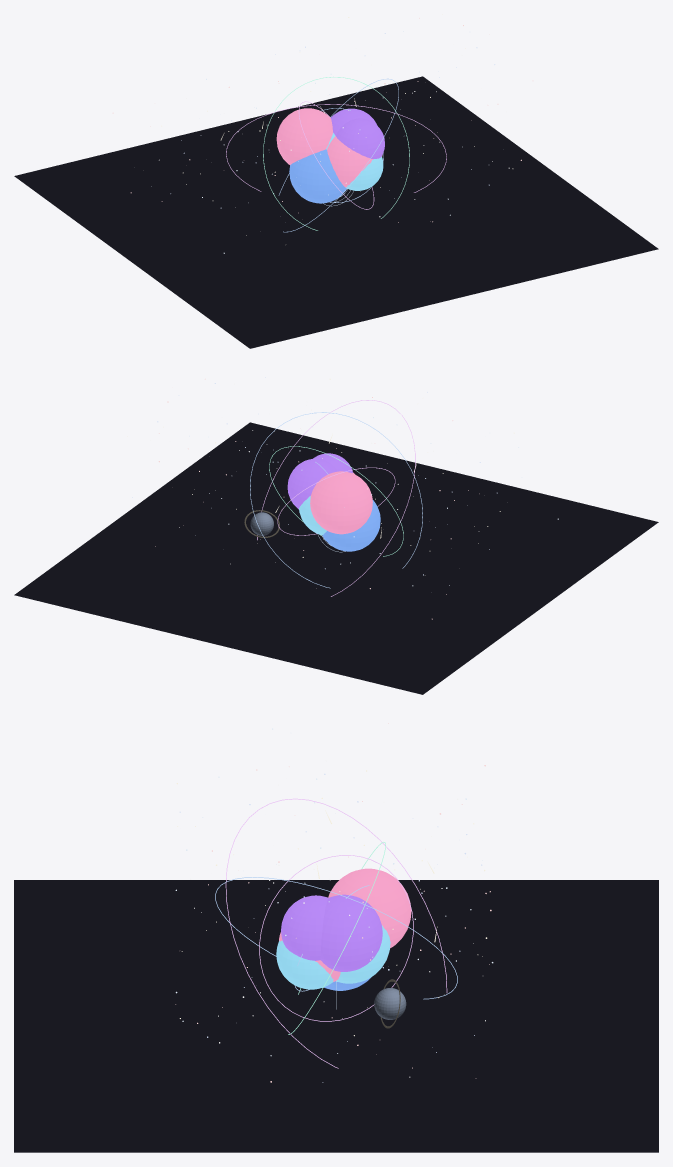
Rendered from ContactSpaceCosmic.glb.
The picture shows the model from 3 angles, top to bottom: view 1: azimuth 30°, elevation 25°; view 2: azimuth 150°, elevation 25°; view 3: azimuth 270°, elevation 25°; orthographic projection. The views are drawn at different scales.
Parts seen in each view (by area): view 1: Cosmic_Floor, Nebula_6, Nebula_1, Nebula_0, Nebula_2, Nebula_3, Nebula_4; view 2: Cosmic_Floor, Nebula_6, Nebula_4, Nebula_1, Cosmic_Ring_3; view 3: Cosmic_Floor, Nebula_4, Nebula_6, Nebula_0, Nebula_3, Nebula_7, Cosmic_Planet, Cosmic_Ring_4.
Part boxes in pixels (bbox=[...]): Cosmic_Floor: bbox=[14, 76, 658, 348]; Nebula_6: bbox=[276, 108, 332, 164]; Nebula_1: bbox=[289, 149, 346, 203]; Nebula_0: bbox=[336, 118, 384, 158]; Nebula_2: bbox=[327, 136, 373, 187]; Nebula_3: bbox=[346, 156, 383, 190]; Nebula_4: bbox=[331, 108, 376, 135]; Cosmic_Floor: bbox=[14, 422, 658, 694]; Nebula_6: bbox=[310, 471, 372, 534]; Nebula_4: bbox=[287, 458, 337, 509]; Nebula_1: bbox=[322, 500, 380, 551]; Cosmic_Ring_3: bbox=[250, 412, 422, 588]; Cosmic_Floor: bbox=[14, 880, 658, 1152]; Nebula_4: bbox=[320, 894, 382, 971]; Nebula_6: bbox=[328, 868, 411, 948]; Nebula_0: bbox=[281, 895, 328, 960]; Nebula_3: bbox=[276, 940, 333, 989]; Nebula_7: bbox=[336, 925, 390, 983]; Cosmic_Planet: bbox=[374, 988, 406, 1019]; Cosmic_Ring_4: bbox=[225, 798, 447, 1068].
Bounding box in the file's own units: 60 × 23.18 × 60.
